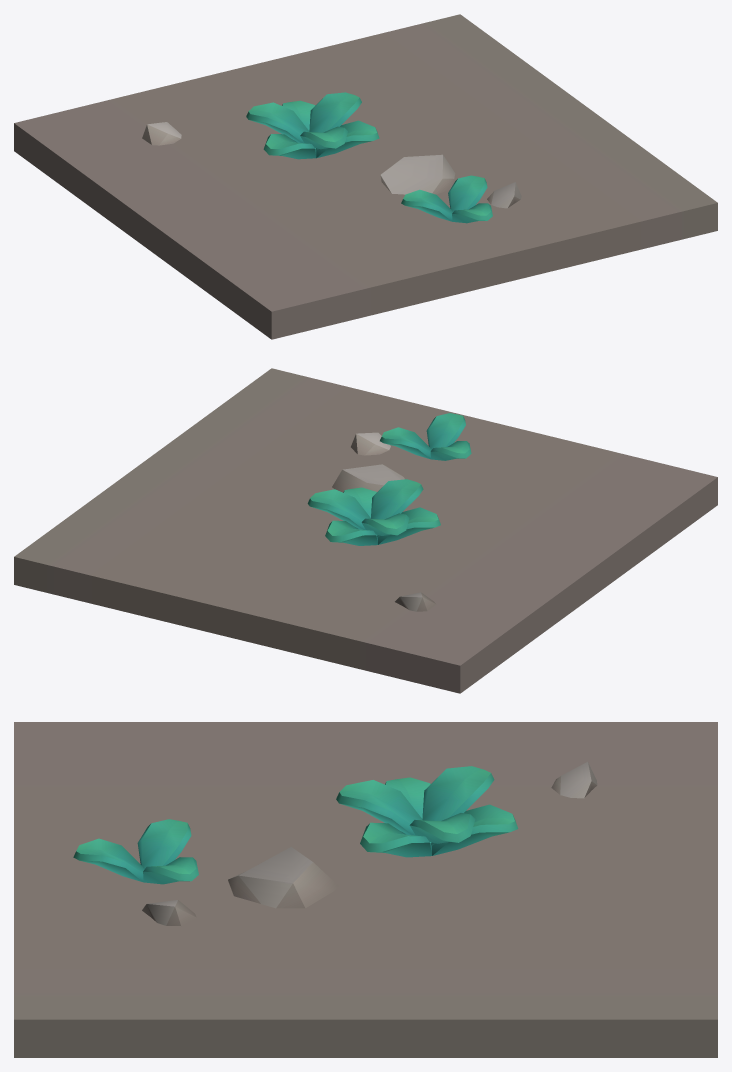
Rendered from kaykit-dungeon-remastered-floor-dirt-small-weeds-gltf.glb.
3 views of the same model, one above another, from view 1: azimuth 30°, elevation 25°; view 2: azimuth 150°, elevation 25°; view 3: azimuth 270°, elevation 25° (orthographic). The views are drawn at different scales.
Parts seen in each view (by area): view 1: floor_dirt_small_weeds; view 2: floor_dirt_small_weeds; view 3: floor_dirt_small_weeds.
Part boxes in pixels (left/top/right/bottom): floor_dirt_small_weeds: left=14, top=14, right=717, bottom=339; floor_dirt_small_weeds: left=14, top=368, right=717, bottom=693; floor_dirt_small_weeds: left=14, top=722, right=717, bottom=1057.
Bounding box in the file's own units: 2 × 0.2954 × 2.
1 material, 1 textured.
